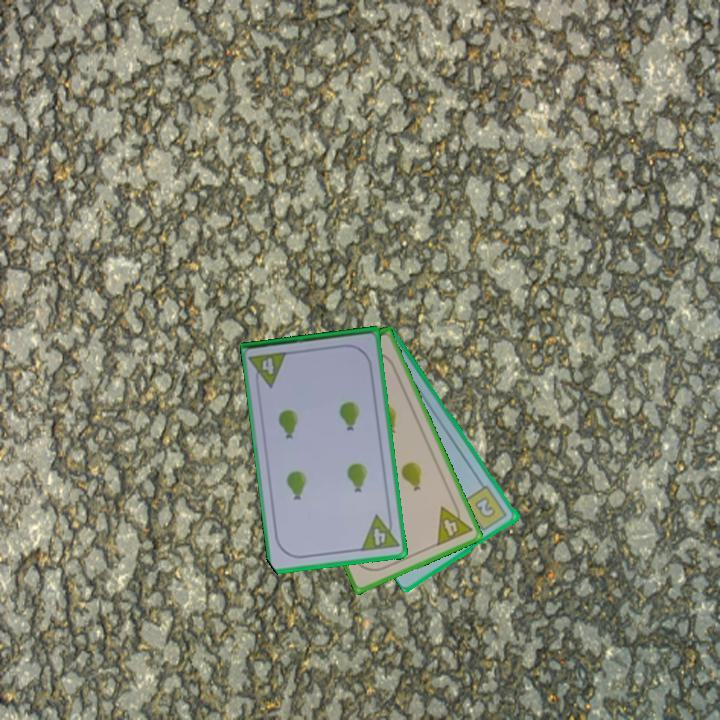2b: (460, 482, 511, 535)
4p: (433, 498, 475, 549), (357, 510, 402, 554), (247, 348, 291, 391)
